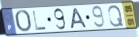9: (92, 5, 107, 30), (53, 8, 67, 31)
A: (70, 7, 88, 30)
L: (32, 10, 48, 32)
O: (14, 9, 33, 34)
Q: (107, 4, 125, 28)
